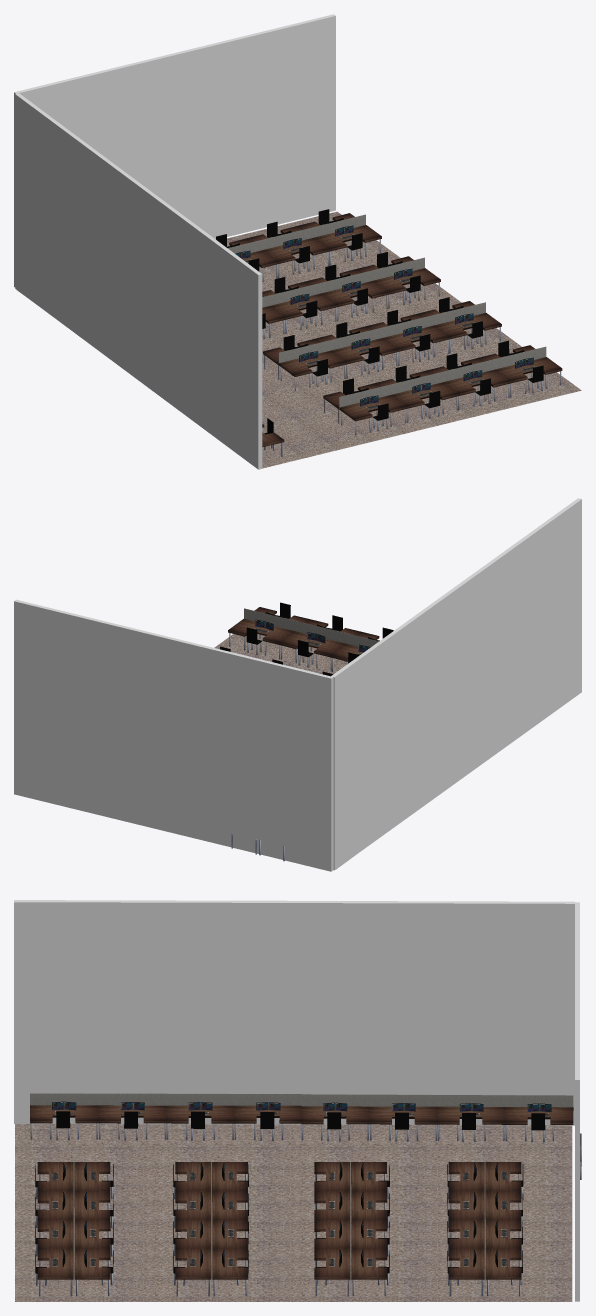
The model's file is officeRoom.FBX.
The picture shows the model from 3 angles, top to bottom: view 1: azimuth 30°, elevation 25°; view 2: azimuth 150°, elevation 25°; view 3: azimuth 270°, elevation 25°; orthographic projection. The views are drawn at different scales.
Parts seen in each view (by area): view 1: Box209, Box208, Plane001, TableSet007, TableSet006, Box123, Box079, Box145, Box166, Box080, Box122, Box146 (+4 smaller); view 2: Box208, Box209, Plane001, Box149, Box150, Box153, Box154; view 3: Box209, Plane001, Box208, Box080, Box166, Box144, Box122, Box127, Box149, Box081, Box105, Box249 (+39 smaller).
Boxes of the visible parts, x1,y1,x2,y2 form: Box209: (15,93,262,469); Box208: (14,14,335,287); Plane001: (17,211,581,468); TableSet007: (339,395,407,421); TableSet006: (279,350,346,376); Box123: (331,338,398,364); Box079: (263,237,330,263); Box145: (392,382,459,408); Box166: (495,357,562,383); Box080: (315,225,381,251); Box122: (373,268,440,294); Box146: (443,369,510,395); Box208: (14,599,333,871); Box209: (331,498,581,870); Plane001: (214,634,346,869); Box149: (228,619,294,644); Box150: (279,631,346,657); Box153: (244,608,295,630); Box154: (295,621,346,643); Box209: (14,900,574,1125); Plane001: (15,1124,572,1301); Box208: (575,902,579,1301); Box080: (448,1248,484,1279); Box166: (37,1248,73,1279); Box144: (175,1248,211,1279); Box122: (314,1248,350,1279); Box127: (212,1248,248,1279); Box149: (74,1248,110,1279); Box081: (485,1248,521,1279); Box105: (351,1248,387,1279); Box249: (30,1105,98,1123).
Size of the model in its own units: 162 by 93.38 by 216.
